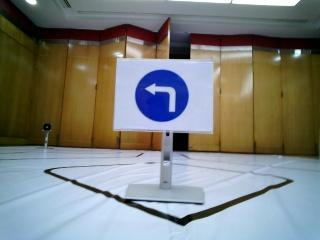left: (128, 63, 203, 131)
